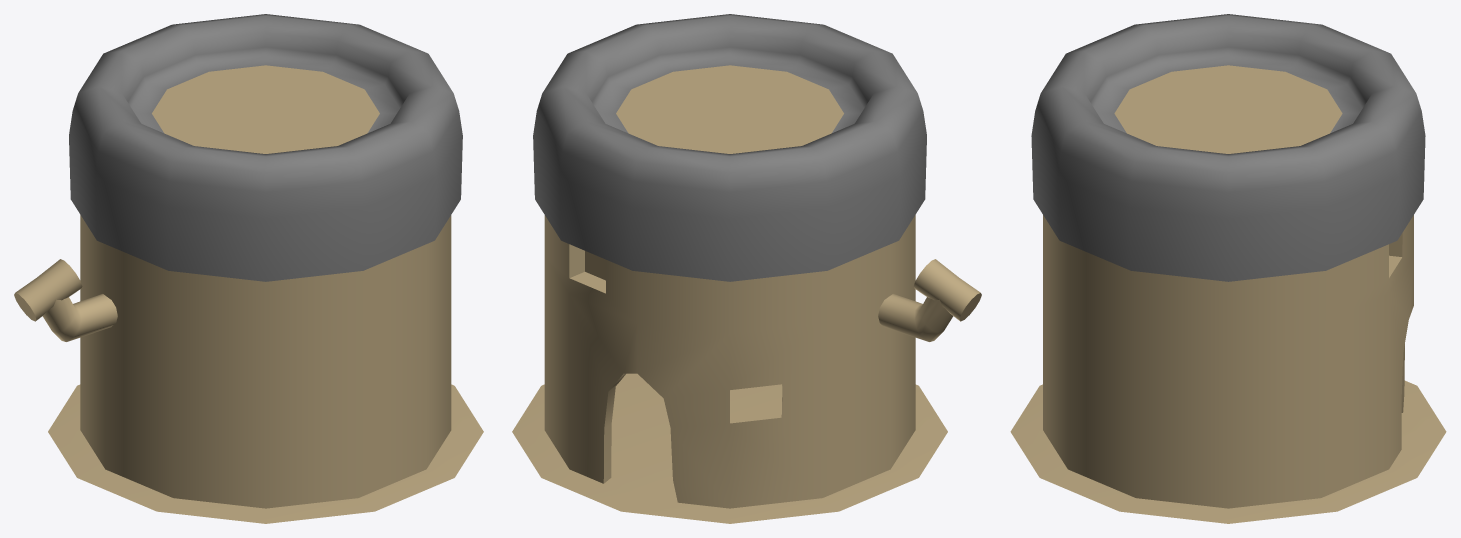
File: house1.fbx
3 views of the same model, side by side, from view 1: azimuth 30°, elevation 25°; view 2: azimuth 150°, elevation 25°; view 3: azimuth 270°, elevation 25° (orthographic).
Visible parts, largest first — view 1: plant, basehouse, roof, Floor, cheminey; view 2: plant, basehouse, roof, Floor, cheminey; view 3: plant, basehouse, roof, Floor.
Boxes of the visible parts, <box> form: plant: <box>69,14,462,281</box>; basehouse: <box>80,255,451,508</box>; roof: <box>80,65,451,333</box>; Floor: <box>48,384,483,523</box>; cheminey: <box>14,259,117,341</box>; plant: <box>533,14,926,281</box>; basehouse: <box>544,255,915,508</box>; roof: <box>544,65,915,333</box>; Floor: <box>512,373,947,523</box>; cheminey: <box>878,259,981,341</box>; plant: <box>1031,14,1425,281</box>; basehouse: <box>1043,255,1413,508</box>; roof: <box>1043,65,1413,333</box>; Floor: <box>1010,380,1446,523</box>.
Bounding box in the file's own units: 805 × 610 × 697.
